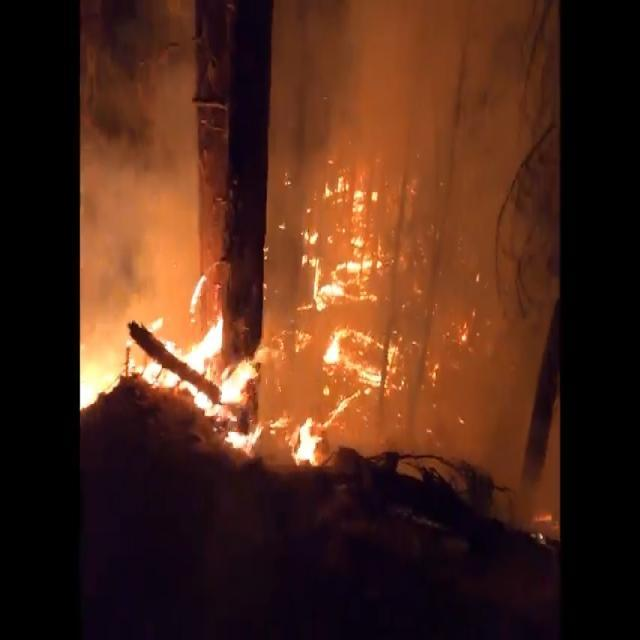Fire: (134, 154, 471, 468)
